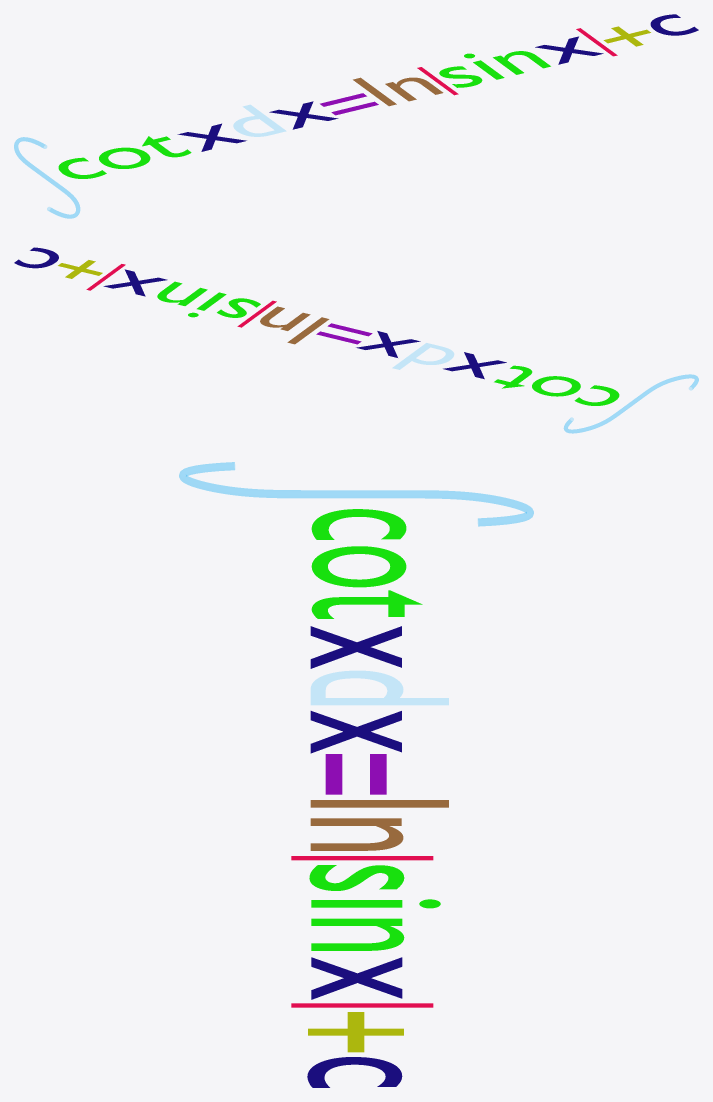
File: intcotx.glb
3 views of the same model, one above another, from view 1: azimuth 30°, elevation 25°; view 2: azimuth 150°, elevation 25°; view 3: azimuth 270°, elevation 25° (orthographic). The views are drawn at different scales.
Parts seen in each view (by area): view 1: int din ctg x dx; view 2: int din ctg x dx; view 3: int din ctg x dx.
Boxes of the visible parts, bbox=[...] form: int din ctg x dx: bbox=[14, 14, 698, 218]; int din ctg x dx: bbox=[14, 247, 698, 433]; int din ctg x dx: bbox=[179, 462, 533, 1087].
Size of the model in its own units: 7.27 by 0.0401 by 1.75.
